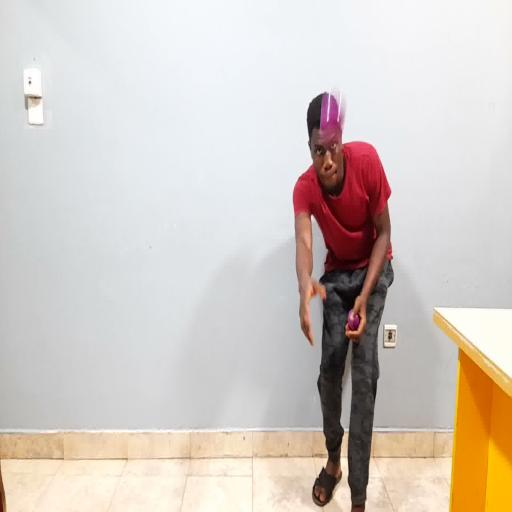plastic-ball: (319, 86, 346, 138)
